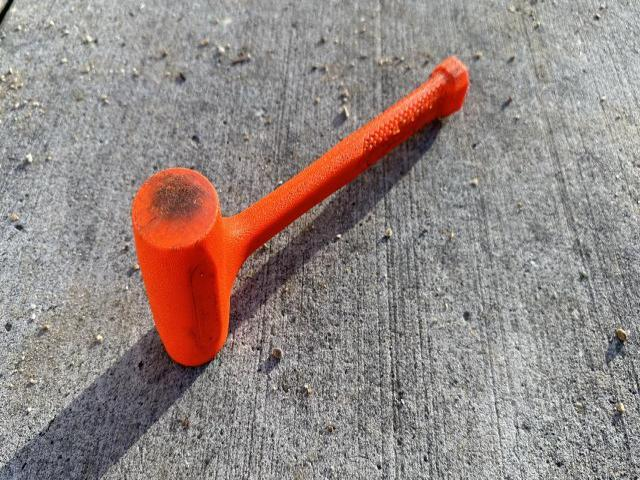hammer: (132, 56, 469, 366)
